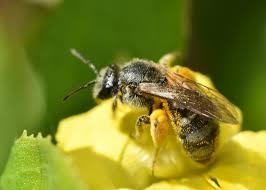Lasioglossum: (62, 41, 244, 173)
